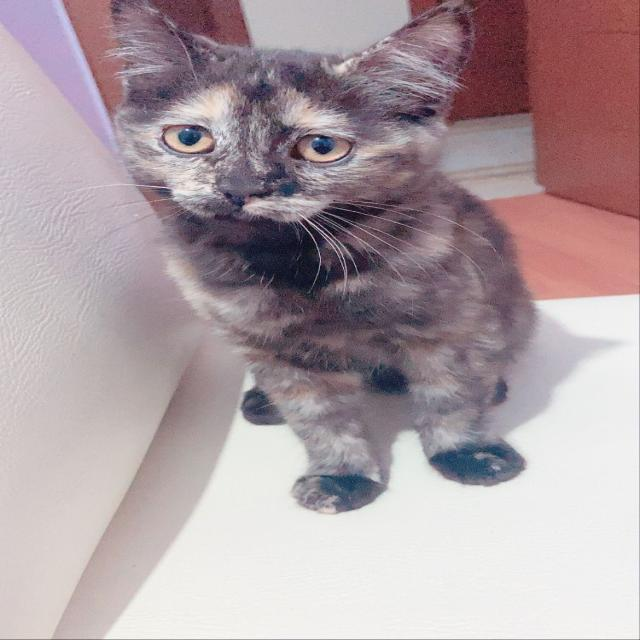authorized: (90, 0, 540, 515)
